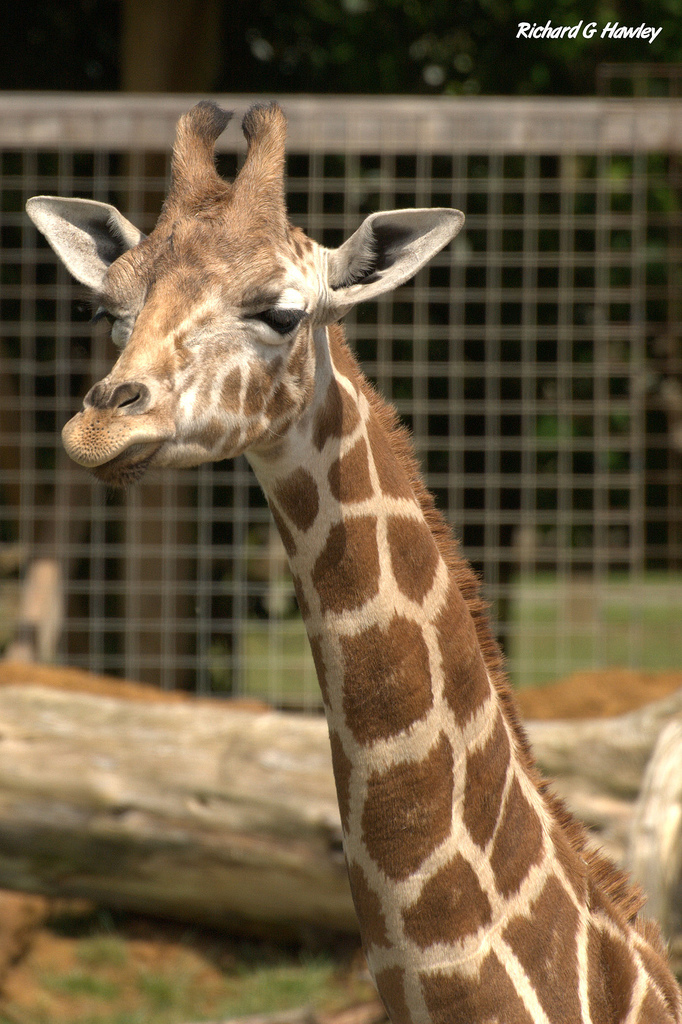giraffe: (33, 106, 664, 982)
